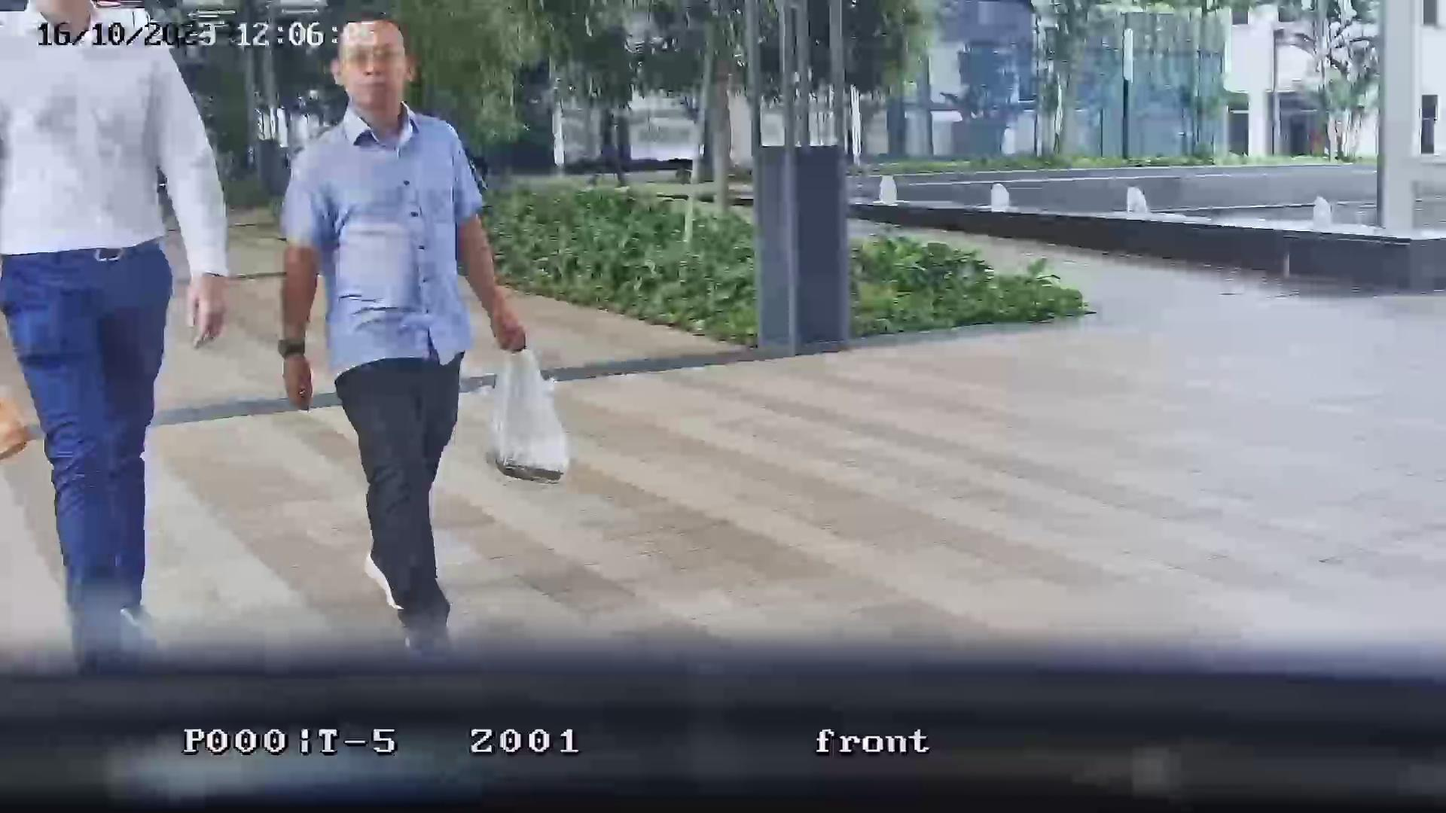person: (276, 17, 529, 643), (0, 1, 230, 662)
